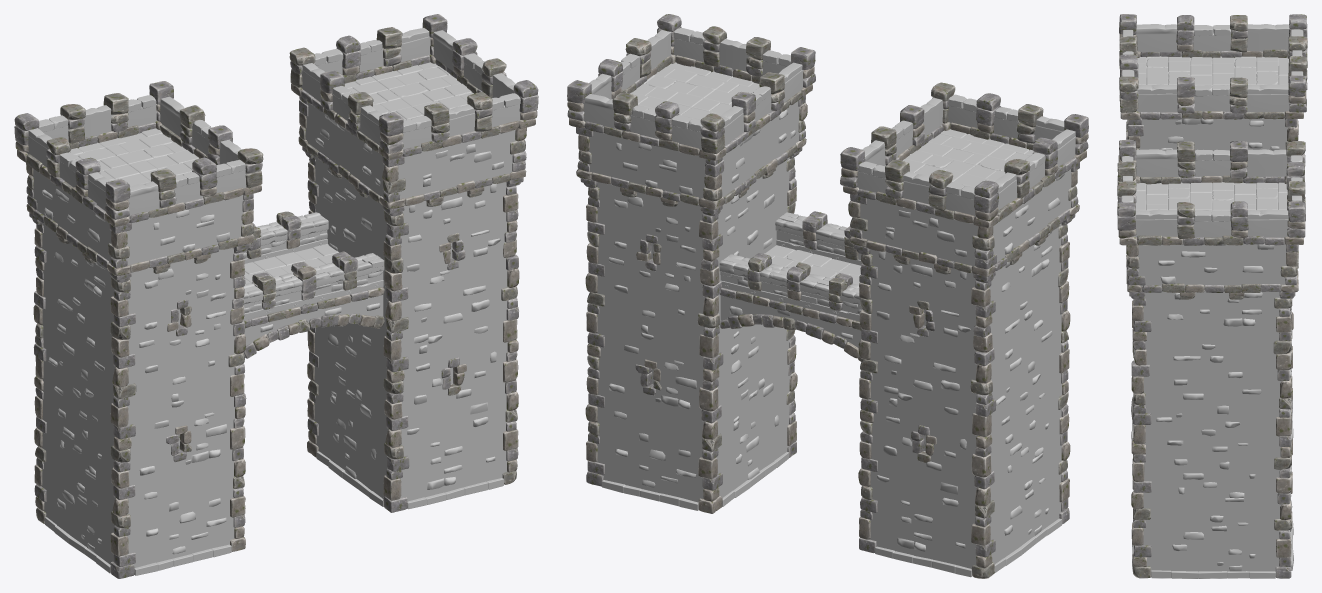
3 views of the same model, side by side, from view 1: azimuth 30°, elevation 25°; view 2: azimuth 150°, elevation 25°; view 3: azimuth 270°, elevation 25° (orthographic). The views are drawn at different scales.
Visible parts, largest first — view 1: SM_Castle_Entrance_01_v2_LOD0; view 2: SM_Castle_Entrance_01_v2_LOD0; view 3: SM_Castle_Entrance_01_v2_LOD0.
Part boxes in pixels (box(x1,y1,x2,y2)): SM_Castle_Entrance_01_v2_LOD0: box(14, 14, 538, 578); SM_Castle_Entrance_01_v2_LOD0: box(567, 14, 1088, 578); SM_Castle_Entrance_01_v2_LOD0: box(1117, 14, 1307, 578).
Bounding box in the file's own units: 20.94 × 18.85 × 8.64.
